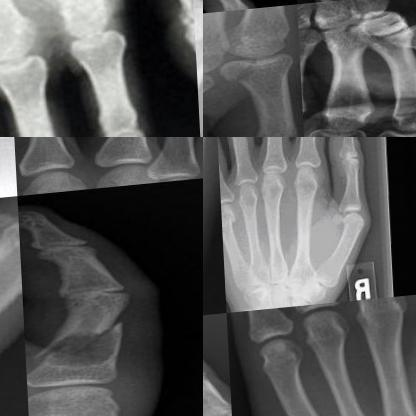fracture: (26, 324, 108, 375), (205, 56, 272, 97), (221, 206, 239, 240)
